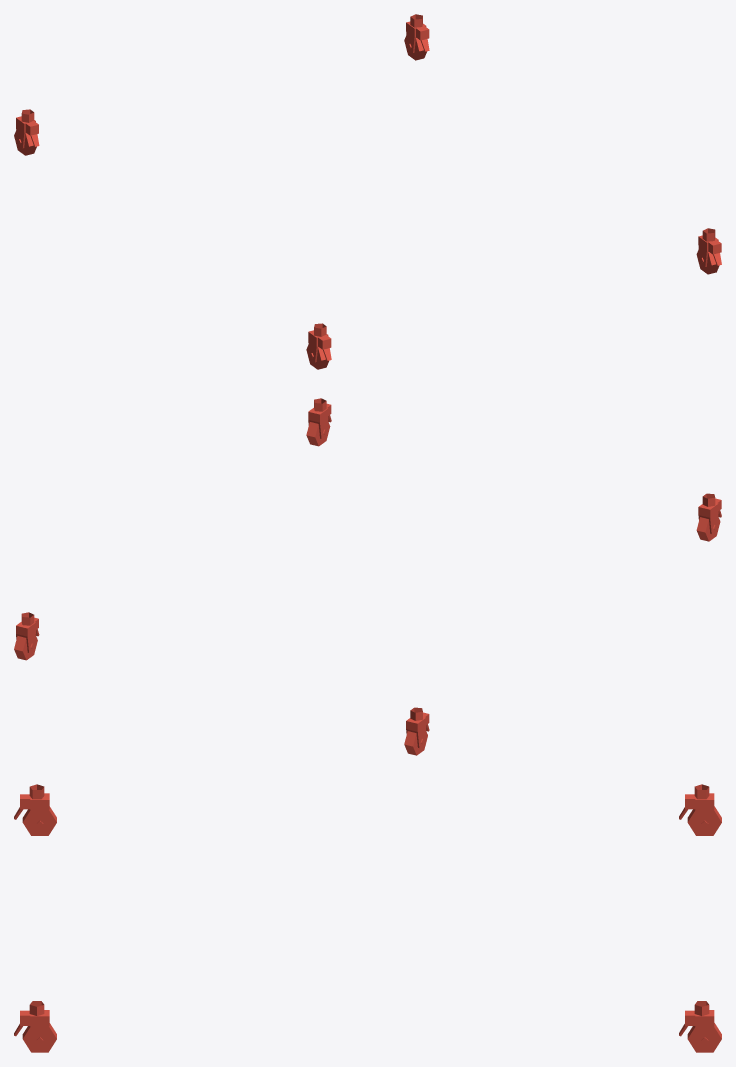
Rendered from SM_Scaffolding_Wheels_Movie.fbx.
3 views of the same model, one above another, from view 1: azimuth 30°, elevation 25°; view 2: azimuth 150°, elevation 25°; view 3: azimuth 270°, elevation 25° (orthographic). The views are drawn at different scales.
Parts seen in each view (by area): view 1: SM_Scaffolding_Wheels_Movie; view 2: SM_Scaffolding_Wheels_Movie; view 3: SM_Scaffolding_Wheels_Movie.
Boxes of the visible parts, x1=… form: SM_Scaffolding_Wheels_Movie: x1=14, y1=14, x2=721, y2=369; SM_Scaffolding_Wheels_Movie: x1=14, y1=398, x2=721, y2=755; SM_Scaffolding_Wheels_Movie: x1=14, y1=784, x2=721, y2=1052.
Size of the model in its own units: 277 by 207 by 20.
